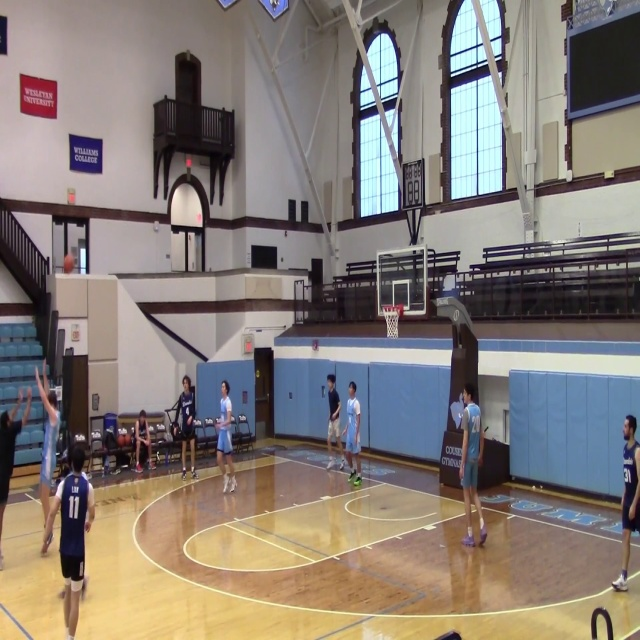Basketball: (63, 254, 75, 273), (117, 434, 130, 447)
